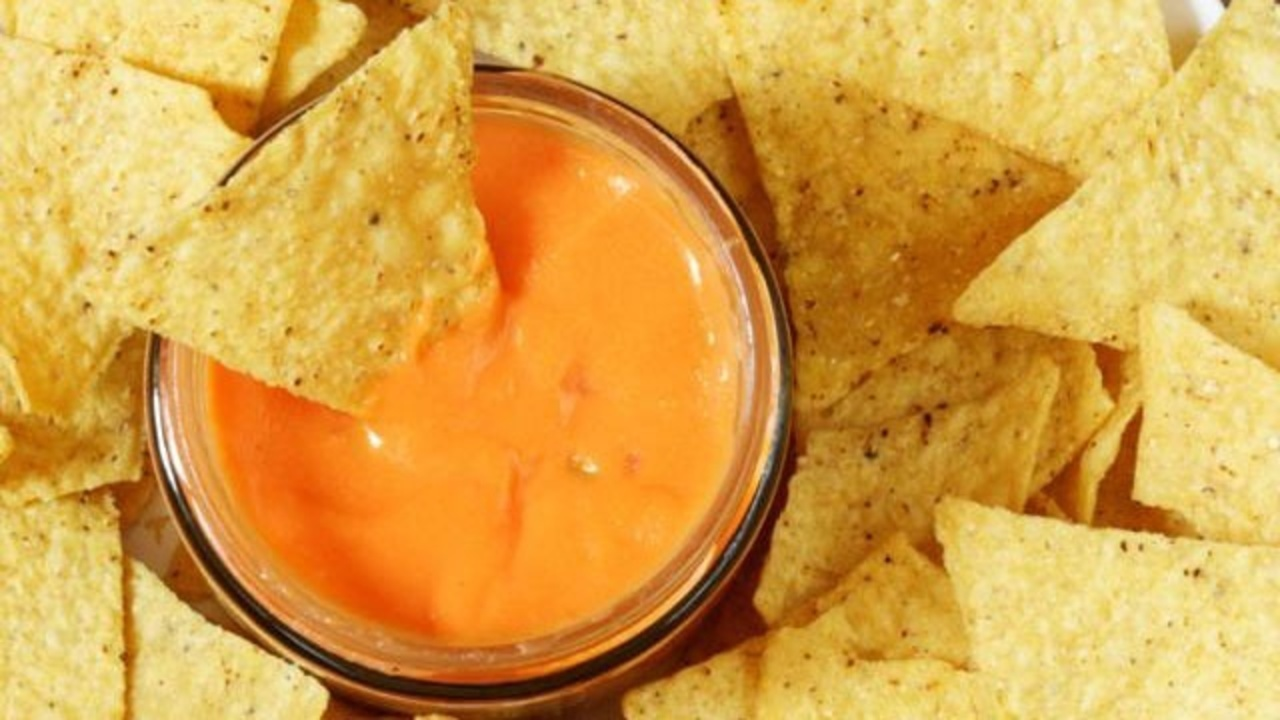cheese: (491, 257, 680, 578)
